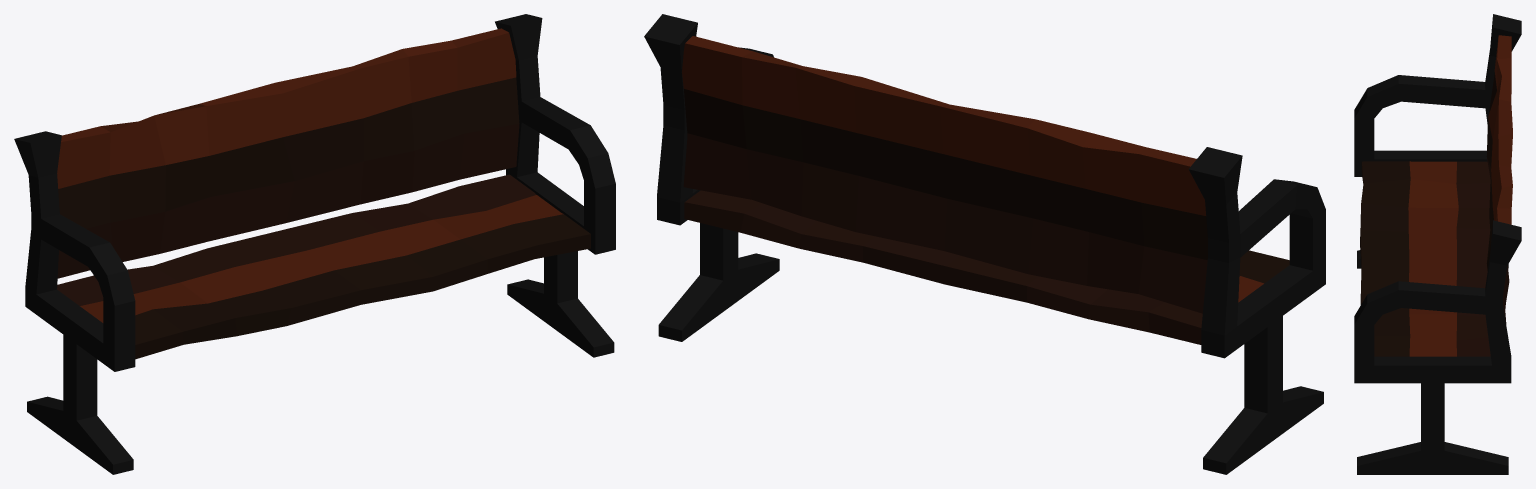
The model's file is bench.obj.
The picture shows the model from 3 angles, left to right: view 1: azimuth 30°, elevation 25°; view 2: azimuth 150°, elevation 25°; view 3: azimuth 270°, elevation 25°; orthographic projection. The views are drawn at different scales.
Parts seen in each view (by area): view 1: Cube; view 2: Cube; view 3: Cube.
Part boxes in pixels (left/top/right/bottom): Cube: left=14, top=14, right=615, bottom=474; Cube: left=644, top=14, right=1325, bottom=474; Cube: left=1354, top=14, right=1521, bottom=474.
Size of the model in its own units: 4.68 by 2.42 by 1.51.
